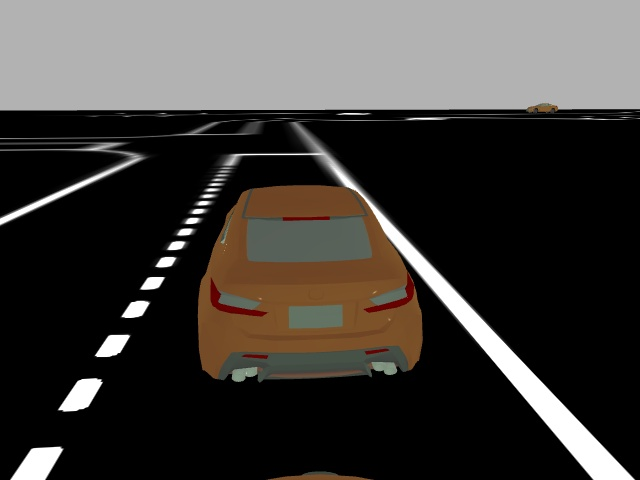obstacle_car: (190, 183, 424, 382)
